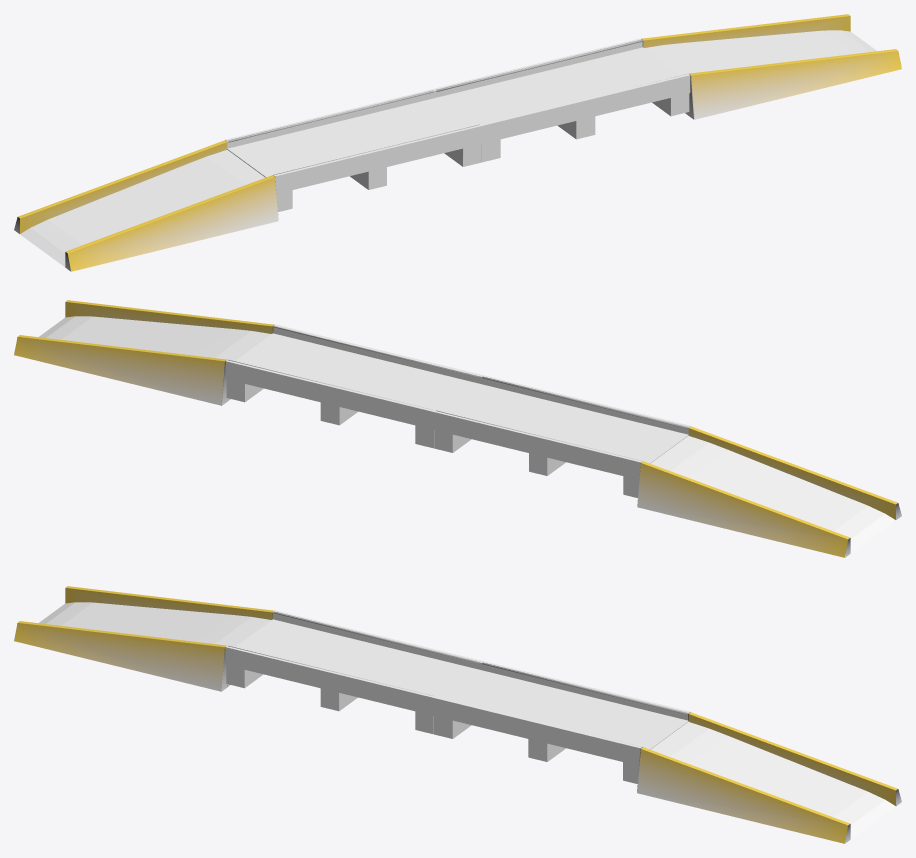
File: weightstation1.dae
3 views of the same model, one above another, from view 1: azimuth 30°, elevation 25°; view 2: azimuth 150°, elevation 25°; view 3: azimuth 330°, elevation 25° (orthographic).
Parts seen in each view (by area): view 1: weight_sation_a5000, Colmesh_weight_sation-1, weight_sation_a400, weight_sation_a2500; view 2: weight_sation_a5000, Colmesh_weight_sation-1, weight_sation_a400, weight_sation_a2500; view 3: weight_sation_a5000, Colmesh_weight_sation-1, weight_sation_a400, weight_sation_a2500.
Boxes of the visible parts, x1,y1,x2,y2 form: weight_sation_a5000: [14, 14, 901, 271]; Colmesh_weight_sation-1: [19, 38, 694, 267]; weight_sation_a400: [20, 16, 895, 267]; weight_sation_a2500: [228, 15, 900, 174]; weight_sation_a5000: [14, 300, 901, 557]; Colmesh_weight_sation-1: [221, 324, 896, 552]; weight_sation_a400: [20, 302, 895, 553]; weight_sation_a2500: [66, 301, 850, 500]; weight_sation_a5000: [14, 586, 901, 843]; Colmesh_weight_sation-1: [225, 610, 690, 792]; weight_sation_a400: [20, 588, 895, 839]; weight_sation_a2500: [20, 587, 895, 804].
Bounding box in the file's own units: 40 × 4.78 × 1.95.
